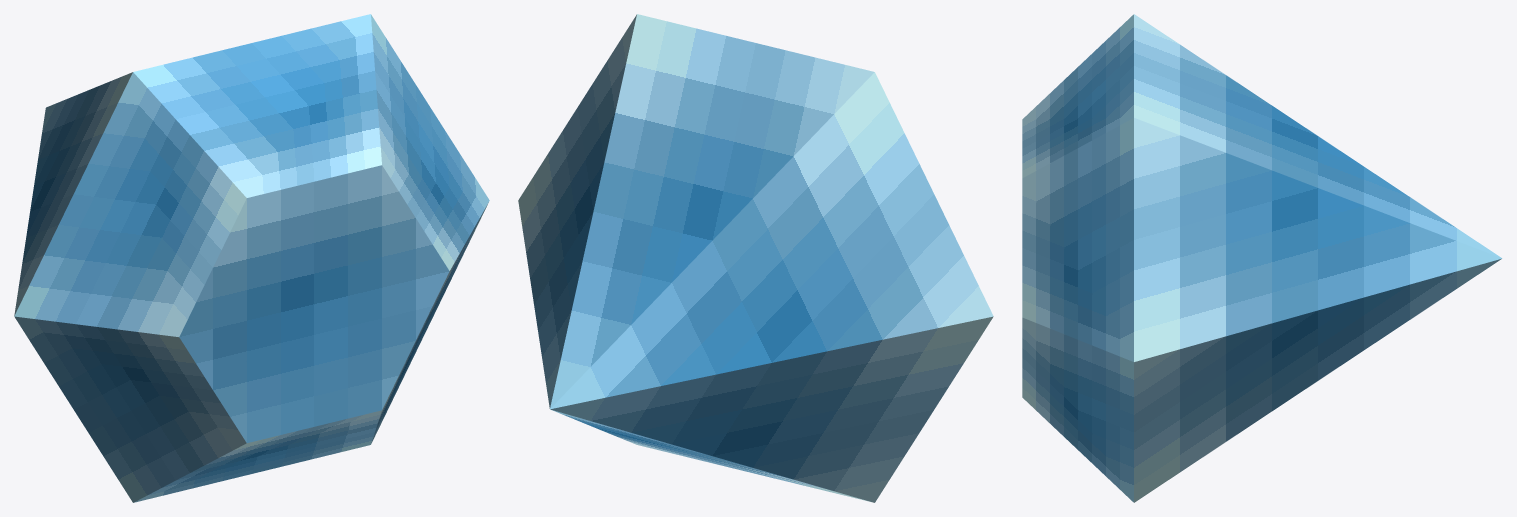
Rendered from hydra_jewel.glb.
3 views of the same model, side by side, from view 1: azimuth 30°, elevation 25°; view 2: azimuth 150°, elevation 25°; view 3: azimuth 270°, elevation 25° (orthographic). The views are drawn at different scales.
Visible parts, largest first — view 1: model_hydra_jewel; view 2: model_hydra_jewel; view 3: model_hydra_jewel.
Boxes of the visible parts, x1,y1,x2,y2 form: model_hydra_jewel: [14, 14, 489, 502]; model_hydra_jewel: [518, 14, 993, 502]; model_hydra_jewel: [1022, 14, 1502, 502].
Bounding box in the file's own units: 0.2239 × 0.1939 × 0.219.
Materials: 1 (1 with a texture image).
